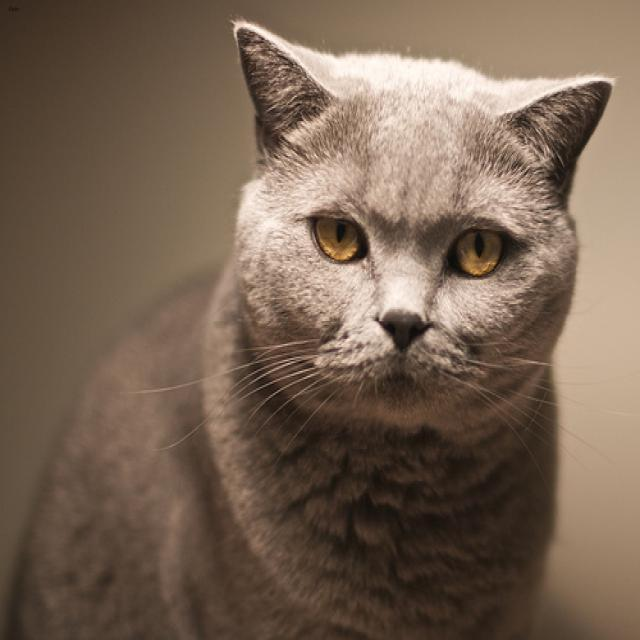British_Shorthair: (226, 15, 619, 444)
